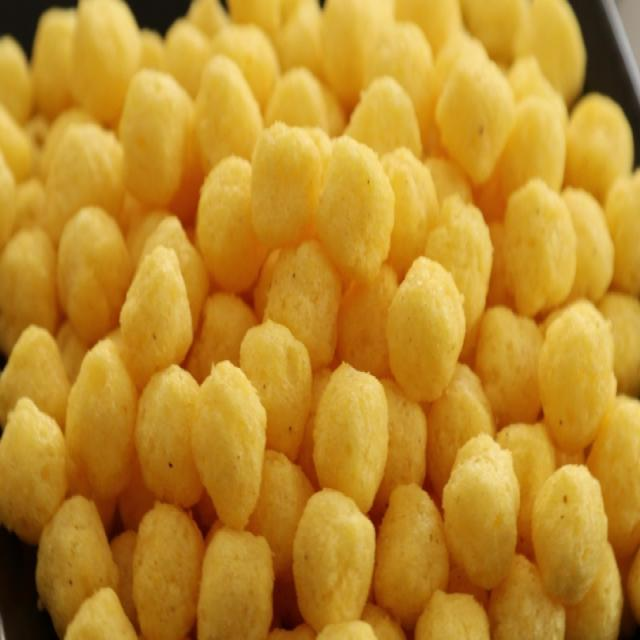Chips packaged: (45, 53, 623, 627), (186, 351, 274, 537), (530, 284, 623, 458), (307, 128, 405, 288), (441, 425, 531, 587), (313, 355, 398, 525), (292, 485, 379, 627), (132, 359, 212, 509), (387, 259, 467, 405), (120, 243, 207, 377), (527, 450, 603, 594), (133, 502, 204, 640)
